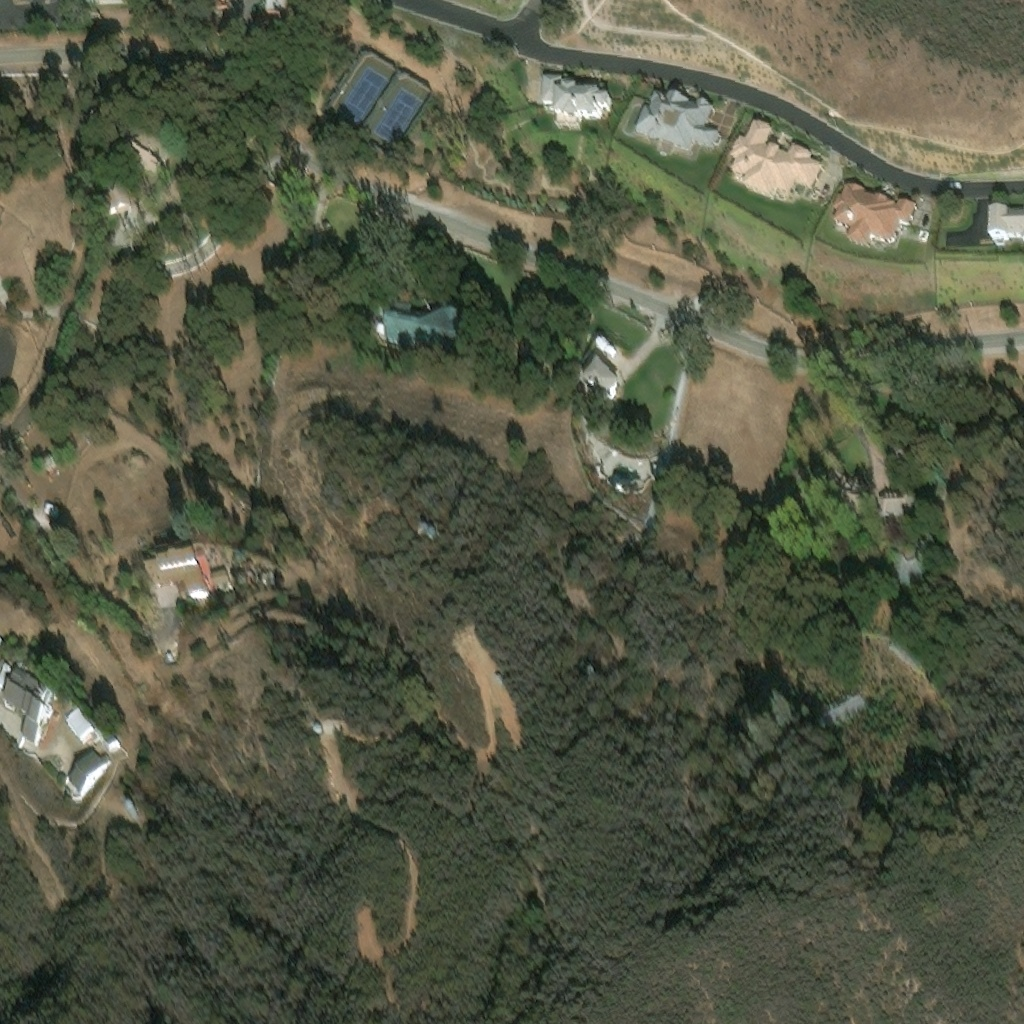0 no-damage: (814, 415, 917, 519), (732, 123, 823, 203), (833, 182, 916, 251), (635, 92, 719, 160), (366, 292, 459, 346), (0, 662, 52, 736), (544, 78, 612, 132), (142, 547, 210, 590), (58, 744, 107, 786), (579, 358, 622, 400), (980, 207, 1023, 248), (818, 685, 862, 717), (65, 708, 92, 736), (607, 464, 640, 486), (594, 334, 617, 356), (207, 557, 228, 579), (93, 723, 115, 742), (415, 517, 438, 535), (38, 449, 56, 469), (159, 635, 174, 653), (41, 498, 57, 511), (648, 459, 658, 474), (230, 545, 242, 557), (226, 561, 241, 570), (579, 654, 590, 665), (256, 561, 268, 570), (311, 717, 319, 726), (122, 793, 130, 802), (239, 553, 249, 559), (248, 557, 257, 563), (241, 563, 248, 569), (249, 565, 254, 570)
4 un-classified: (96, 6, 135, 24), (889, 433, 914, 461), (265, 0, 289, 23), (81, 0, 131, 4)
